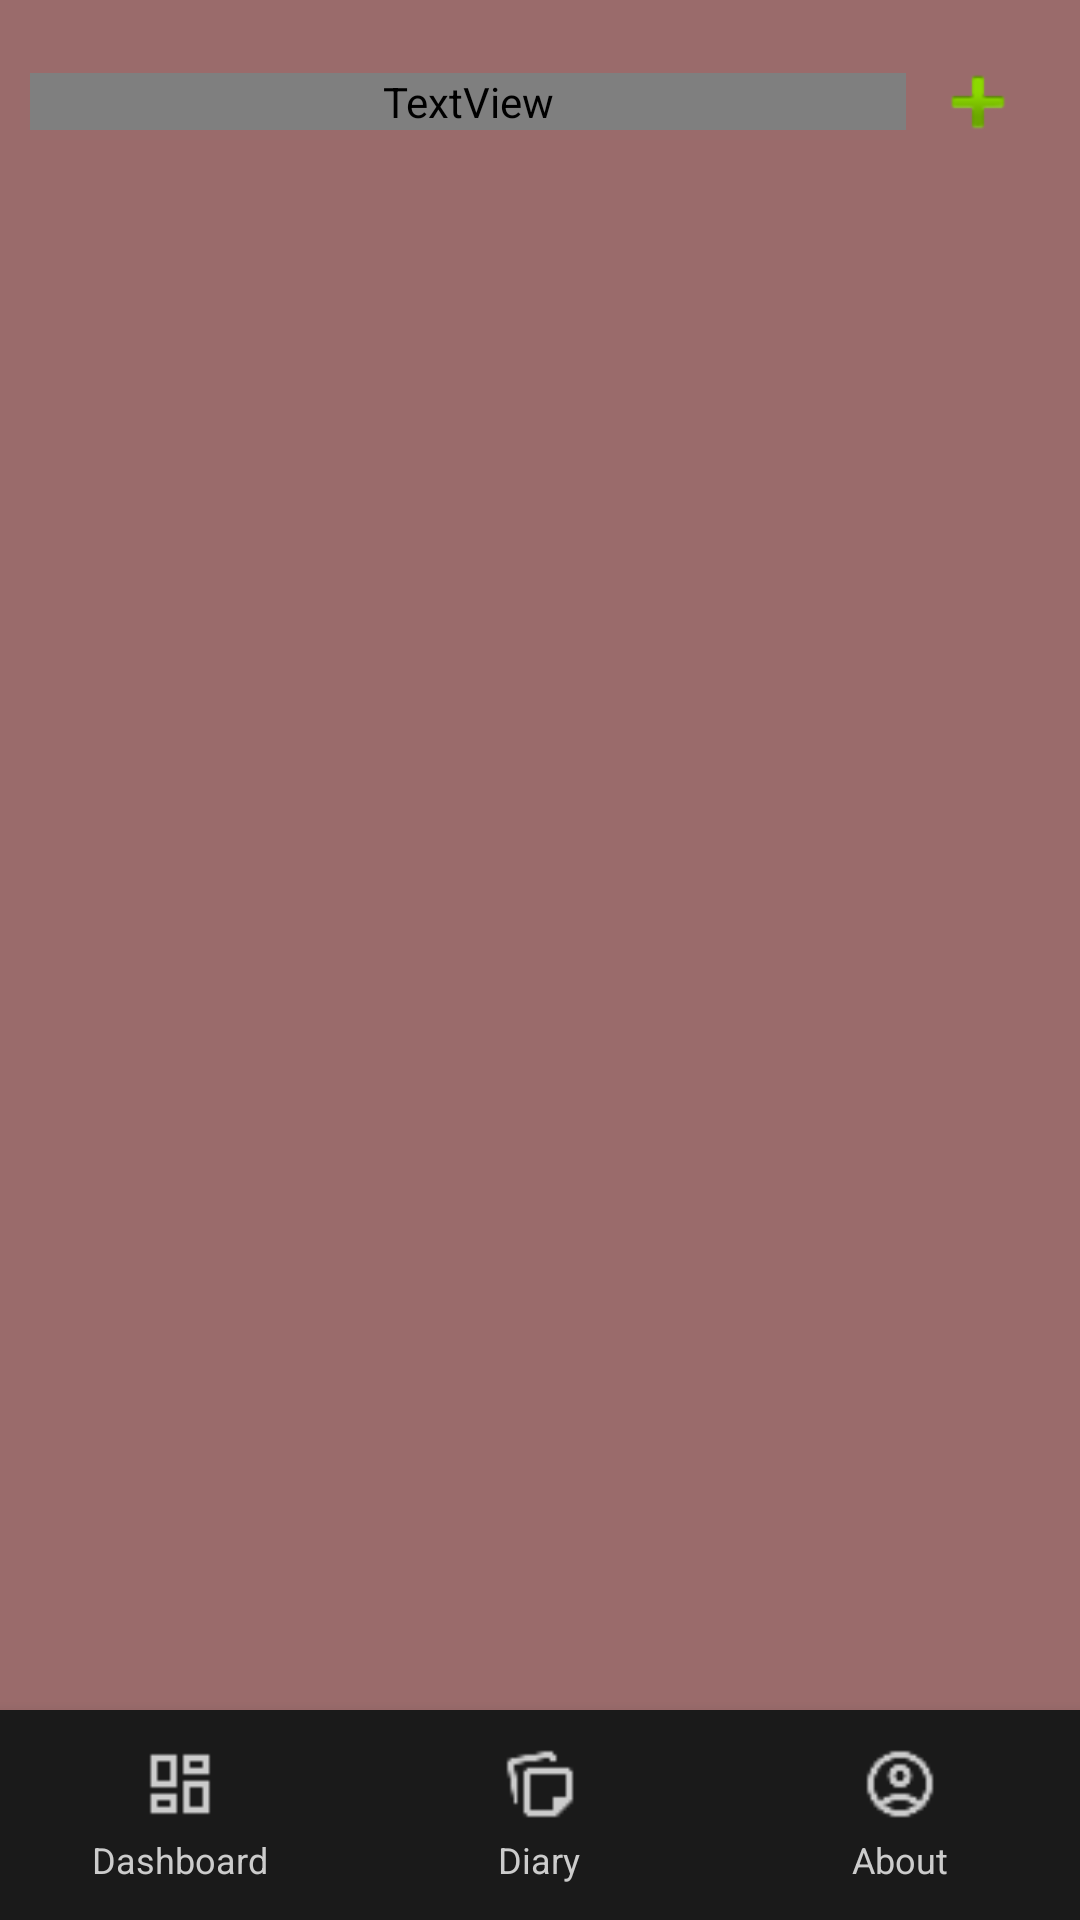

Where to tap for icons on this 1080x1920 app screen, as (x=x, y=y):
Add: (x=978, y=101)
